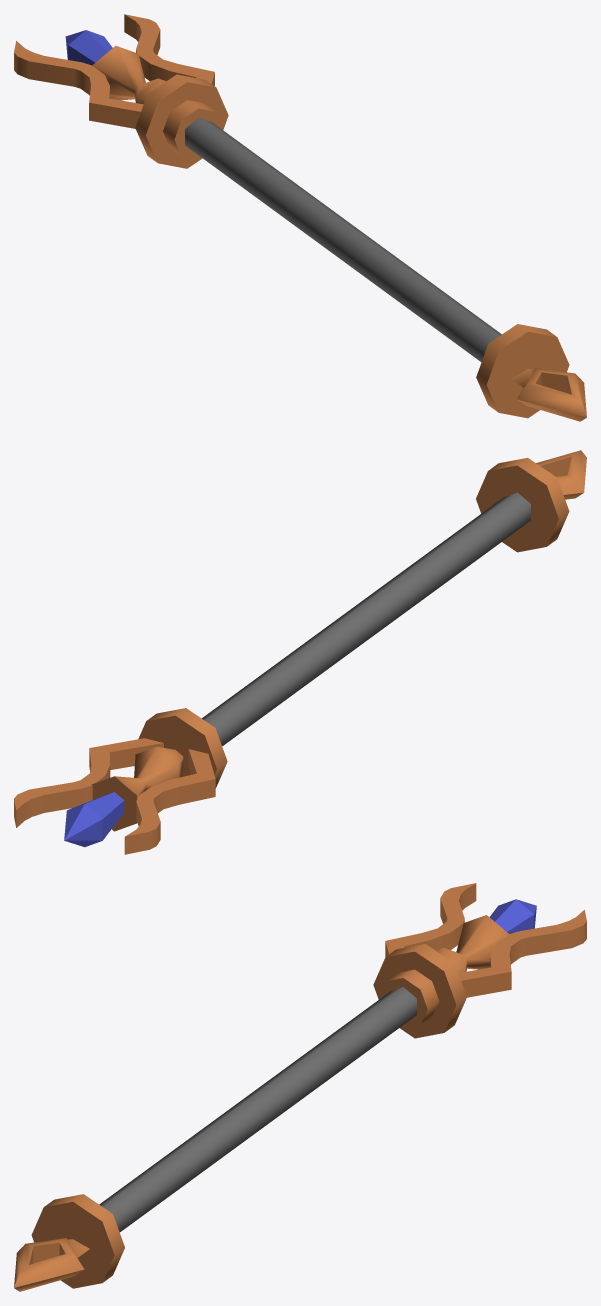
File: Wand_02.fbx
3 renders of one model, top to bottom at view 1: azimuth 30°, elevation 25°; view 2: azimuth 150°, elevation 25°; view 3: azimuth 330°, elevation 25°, orthographic.
Parts seen in each view (by area): view 1: Wand_02; view 2: Wand_02; view 3: Wand_02.
Part boxes in pixels (x1=…): Wand_02: x1=14, y1=14, x2=586, y2=421; Wand_02: x1=14, y1=450, x2=586, y2=854; Wand_02: x1=14, y1=883, x2=586, y2=1291.
Bounding box in the file's own units: 0.0586 × 0.0351 × 0.3821.
